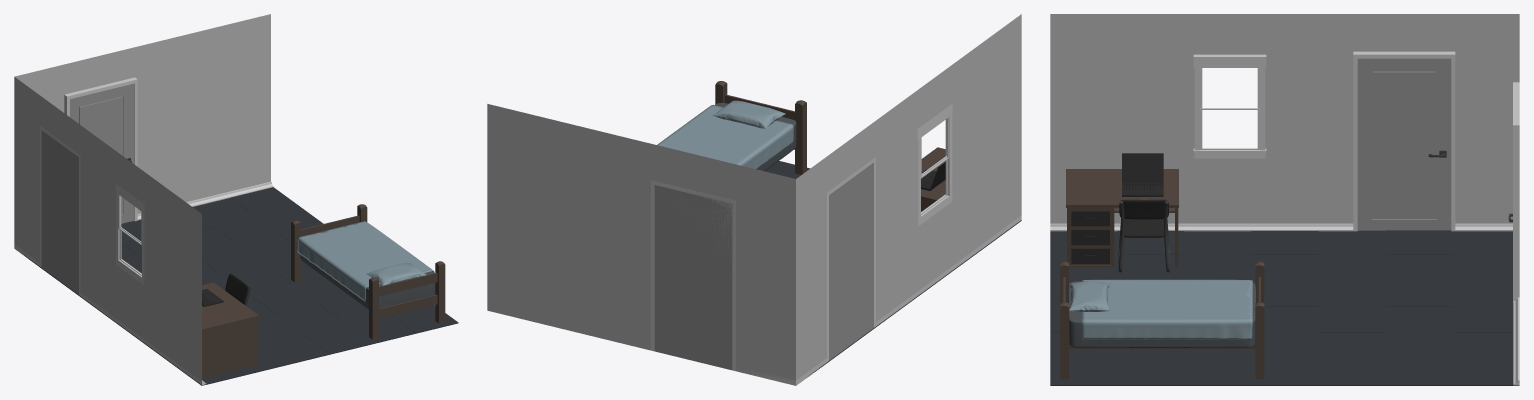
File: MainRoom.fbx
The picture shows the model from 3 angles, left to right: view 1: azimuth 30°, elevation 25°; view 2: azimuth 150°, elevation 25°; view 3: azimuth 270°, elevation 25°; orthographic projection. The views are drawn at different scales.
Parts seen in each view (by area): view 1: Plane.006, Plane.007, Plane.005, Cube.028, Cube.029, Cube.032, Cube.021, Cube.037, Cube.019, Cube.023, BézierCurve.001; view 2: Plane.006, Plane.007, Cube.032, Cube.029, Cube.028, Cube.037, Cube.021, Cube.023, Plane.005, Cube.024; view 3: Plane.007, Plane.005, Cube.029, Cube.028, Cube.021, Cube.037, BézierCurve.001, Plane.004, Cube.023, Cube.032, Cube.019, Cube.024.
Boxes of the visible parts, <box> form: Plane.006: <box>15,14,270,213</box>; Plane.007: <box>14,77,201,380</box>; Plane.005: <box>24,187,458,385</box>; Cube.028: <box>291,204,445,339</box>; Cube.029: <box>40,126,80,295</box>; Cube.032: <box>64,77,137,223</box>; Cube.021: <box>202,282,259,378</box>; Cube.037: <box>115,183,144,285</box>; Cube.019: <box>137,181,273,220</box>; Cube.023: <box>80,293,206,385</box>; BézierCurve.001: <box>225,273,251,305</box>; Plane.006: <box>487,104,795,380</box>; Plane.007: <box>796,14,1021,380</box>; Cube.032: <box>651,180,735,371</box>; Cube.029: <box>827,157,875,361</box>; Cube.028: <box>657,81,806,174</box>; Cube.037: <box>917,103,952,225</box>; Cube.021: <box>921,147,945,211</box>; Cube.023: <box>876,215,1021,326</box>; Plane.005: <box>765,161,1021,377</box>; Cube.024: <box>737,358,826,385</box>; Plane.007: <box>1050,14,1519,223</box>; Plane.005: <box>1050,230,1519,385</box>; Cube.029: <box>1353,51,1455,231</box>; Cube.028: <box>1060,261,1264,379</box>; Cube.021: <box>1066,169,1178,266</box>; Cube.037: <box>1193,54,1266,158</box>; BézierCurve.001: <box>1118,199,1169,272</box>; Plane.004: <box>1122,153,1163,196</box>; Cube.023: <box>1050,223,1353,231</box>; Cube.032: <box>1508,82,1519,301</box>; Cube.019: <box>1513,297,1519,385</box>; Cube.024: <box>1455,223,1512,231</box>.
Size of the model in its own units: 884 by 566 by 1119.
